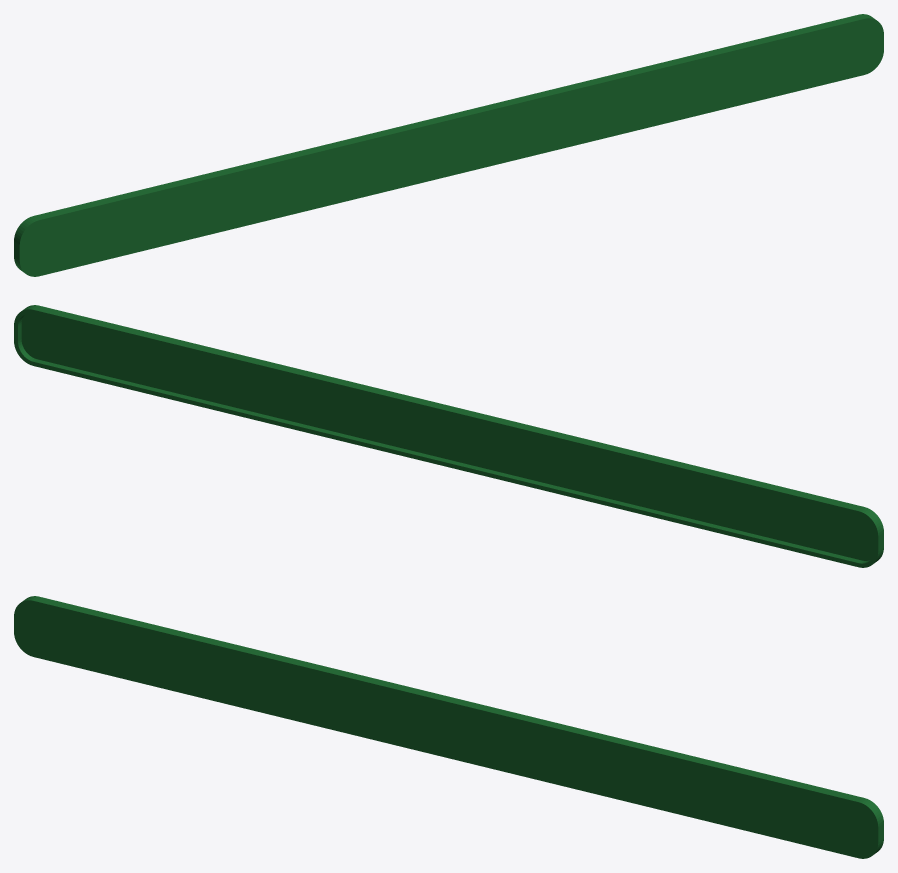
File: led-diffuser__v0.glb
3 renders of one model, top to bottom at view 1: azimuth 30°, elevation 25°; view 2: azimuth 150°, elevation 25°; view 3: azimuth 330°, elevation 25°, orthographic.
Parts seen in each view (by area): view 1: led-diffuser; view 2: led-diffuser; view 3: led-diffuser.
Boxes of the visible parts, x1,y1,x2,y2 form: led-diffuser: [14, 14, 883, 276]; led-diffuser: [14, 305, 883, 567]; led-diffuser: [14, 596, 883, 858].
Size of the model in its own units: 0.2215 by 0.0138 by 0.00256.
